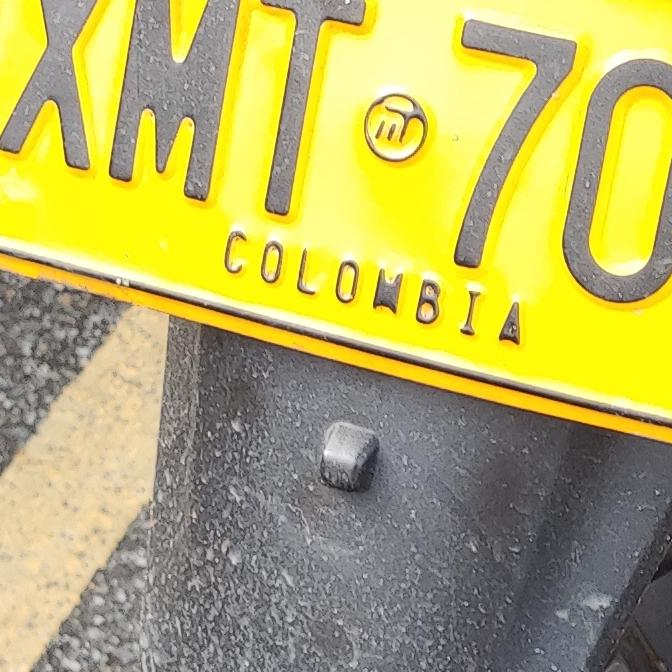plates: (0, 0, 672, 450)
